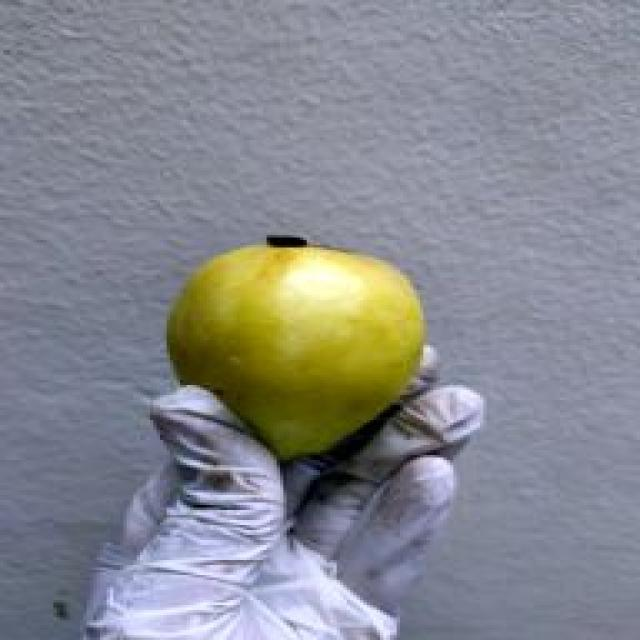Good_Guava: (93, 238, 460, 635)
